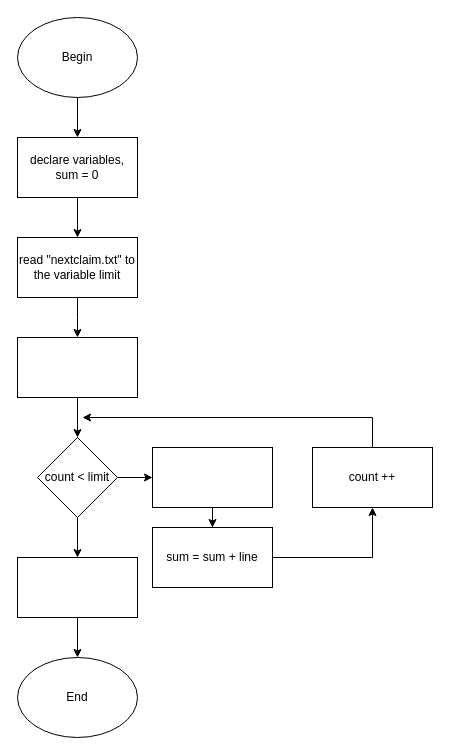
The diagram is 450 pixels wide and 755 high, and some of its shapes have lost their labels. Here are the shapes that lost their labels. From the top down, the centre of each, then its label:
At point 77,367: "read lifeclaim.txt as flifeclaim, count = 0".
At point 212,477: "flifeclaim = line".
At point 77,587: "print sum".
